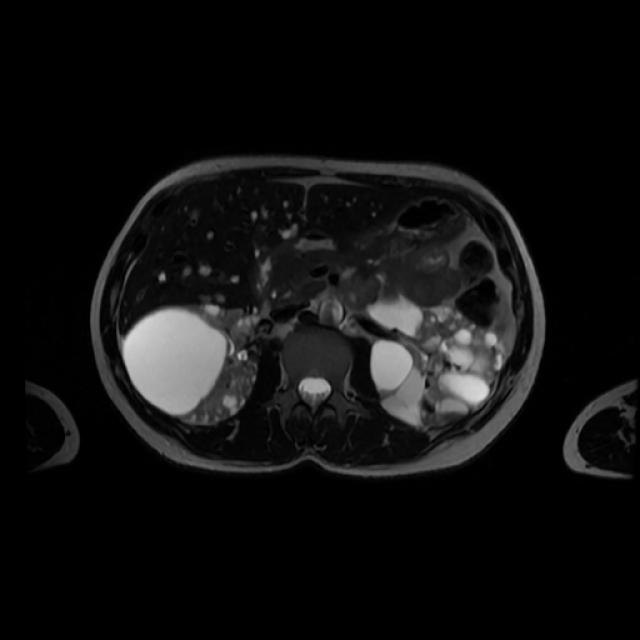sag: (121, 302, 262, 425)
sol: (369, 299, 502, 428)
